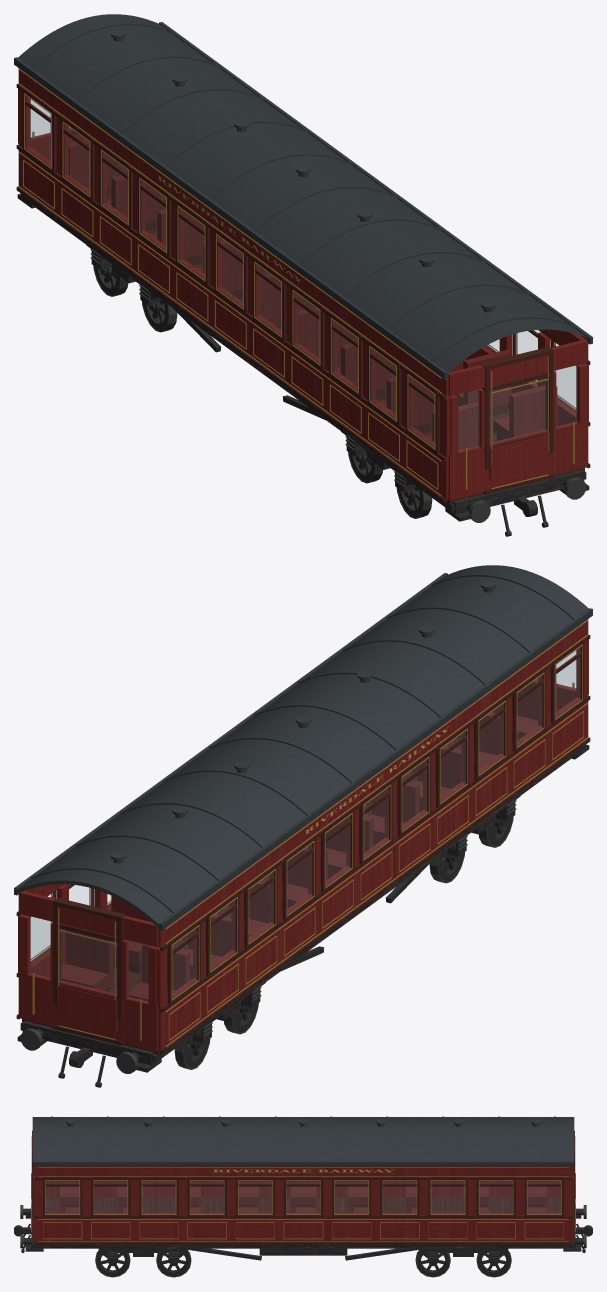
Rendered from victorian_carriage.glb.
The picture shows the model from 3 angles, top to bottom: view 1: azimuth 30°, elevation 25°; view 2: azimuth 150°, elevation 25°; view 3: azimuth 270°, elevation 25°; orthographic projection. The views are drawn at different scales.
Parts seen in each view (by area): view 1: carriage_y_up; view 2: carriage_y_up; view 3: carriage_y_up.
Boxes of the visible parts, x1,y1,x2,y2 form: carriage_y_up: [14, 14, 592, 536]; carriage_y_up: [14, 565, 592, 1087]; carriage_y_up: [14, 1116, 592, 1277].
Size of the model in its own units: 2.82 by 4.12 by 15.19.
9 materials, 9 textured.
